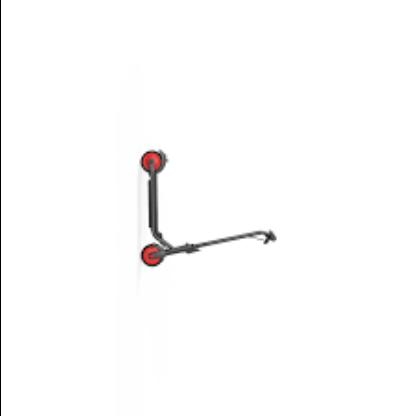bike: (139, 149, 277, 267)
